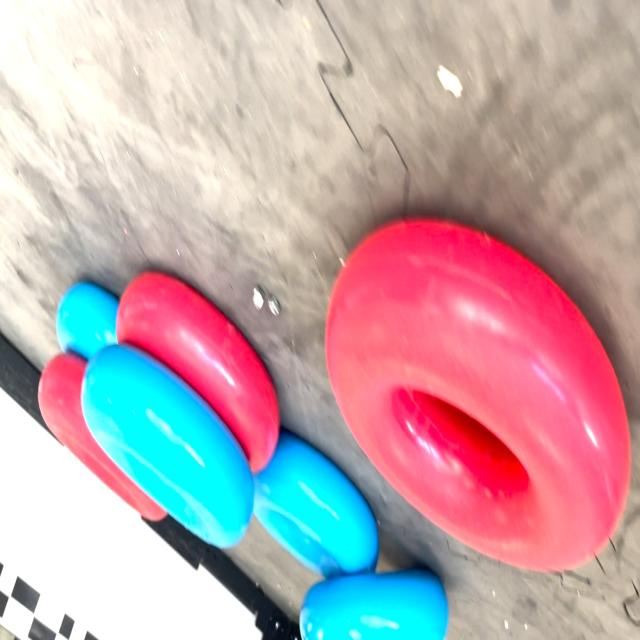Blue-Ring: (81, 344, 254, 547), (254, 433, 379, 578), (300, 571, 449, 640), (56, 282, 119, 360)
Red-Ring: (325, 220, 631, 571), (116, 271, 280, 473), (39, 353, 166, 520)
